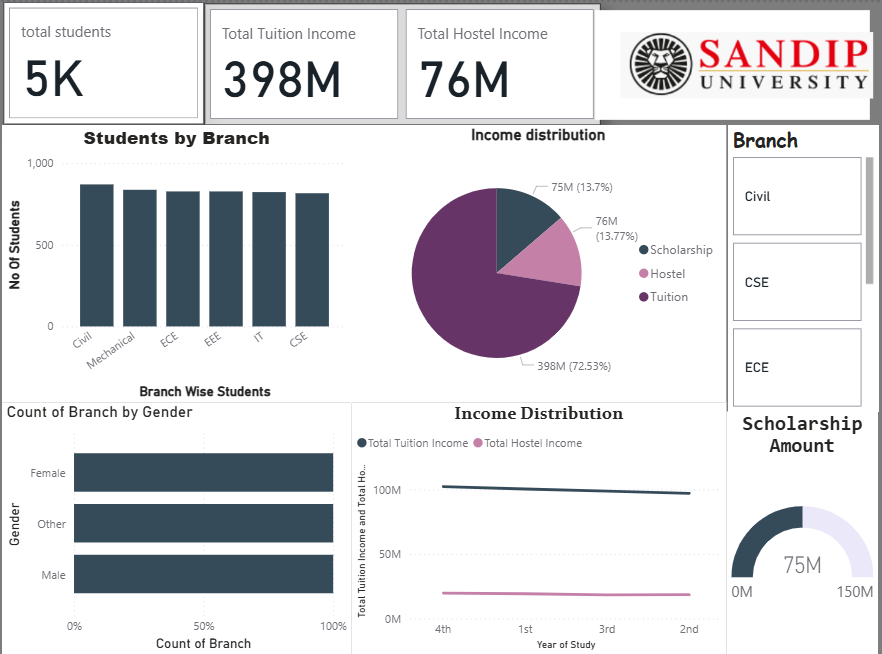

This screenshot's page, from the dashboard's own definition file:
{"tool":"powerbi","page":{"name":"Page 1","canvas":[1200,700],"ordinal":0},"visuals":[{"type":"cardVisual","fields":{"Data":["Sheet1.total students"]},"box":[12,0,215.7,131.3],"z":0},{"type":"cardVisual","fields":{"Data":["Sheet1.Total Tuition Income","Sheet1.Total Hostel Income"]},"box":[227.1,1.6,425.2,130.4],"z":1000},{"type":"columnChart","title":"Students by Branch","fields":{"Category":["Sheet1.Branch"],"Y":["CountNonNull(Sheet1.Student ID)"]},"box":[9.7,132.1,375.2,297.9],"z":2000},{"type":"shape","box":[637.7,0,312.4,135.3],"z":3000},{"type":"image","box":[668.3,1.6,281.8,132.1],"z":4000},{"type":"pieChart","title":"Income distribution","fields":{"Y":["Sum(Sheet1.Scholarship Amount)","Sum(Sheet1.Hostel Fee Paid)","Sum(Sheet1.Tuition Fee Paid)"]},"box":[383.3,132.1,404.2,297.9],"z":5000},{"type":"lineChart","title":"Income Distribution","fields":{"Category":["Sheet1.Year of Study"],"Y":["Sheet1.Total Tuition Income","Sheet1.Total Hostel Income"]},"box":[384.9,430,402.6,270.6],"z":6000},{"type":"hundredPercentStackedBarChart","fields":{"Category":["Sheet1.Gender"],"Y":["CountNonNull(Sheet1.Branch)"]},"box":[9.7,430,375.2,270.6],"z":7000},{"type":"advancedSlicerVisual","fields":{"Values":["Sheet1.Branch"]},"box":[789.1,132.1,161,307.6],"z":8000},{"type":"gauge","title":"Scholarship Amount","fields":{"Y":["Sum(Sheet1.Scholarship Amount)"]},"box":[787.5,439.7,162.7,260.9],"z":9000}]}

Visuals, with their boxes on the page's 1200x700 design canvas (x1, y1, x2, y2). These are canvas units, not pixel positions in the 882x654 screenshot, which may show the page scaled, cropped or inside an application window:
cardVisual - Sheet1.total students: [left=12, top=0, right=228, bottom=131]
cardVisual - Sheet1.Total Tuition Income x Sheet1.Total Hostel Income: [left=227, top=2, right=652, bottom=132]
"Students by Branch" columnChart: [left=10, top=132, right=385, bottom=430]
shape: [left=638, top=0, right=950, bottom=135]
image: [left=668, top=2, right=950, bottom=134]
"Income distribution" pieChart: [left=383, top=132, right=788, bottom=430]
"Income Distribution" lineChart: [left=385, top=430, right=788, bottom=701]
hundredPercentStackedBarChart - Sheet1.Gender x CountNonNull(Sheet1.Branch): [left=10, top=430, right=385, bottom=701]
advancedSlicerVisual - Sheet1.Branch: [left=789, top=132, right=950, bottom=440]
"Scholarship Amount" gauge: [left=788, top=440, right=950, bottom=701]
